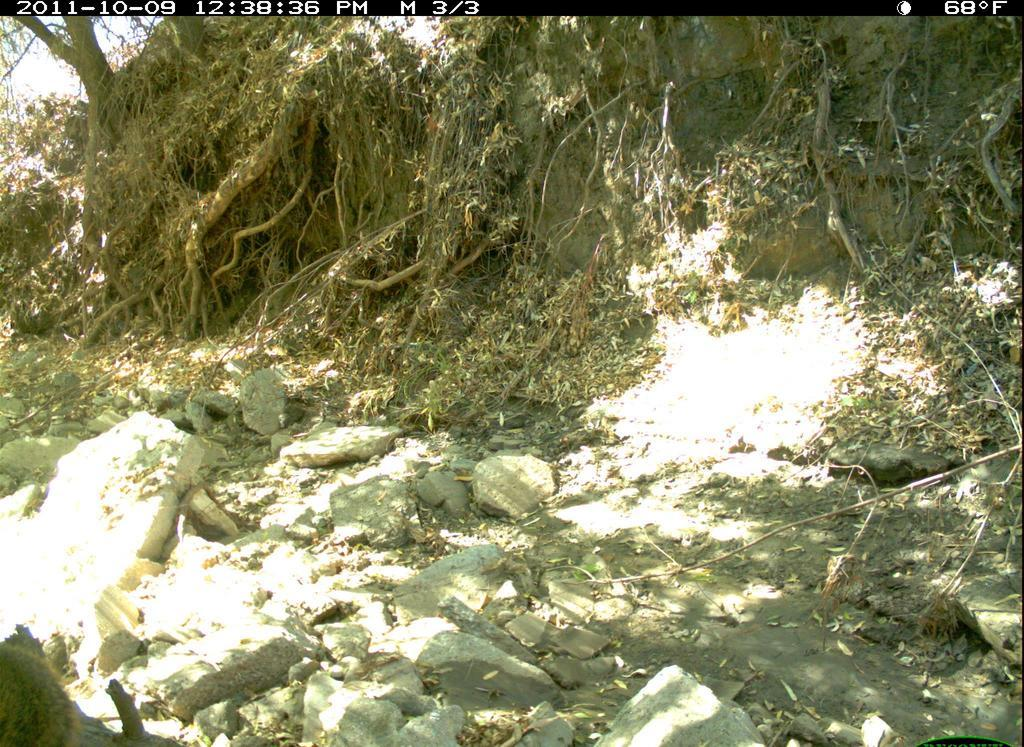squirrel: (1, 620, 90, 747)
